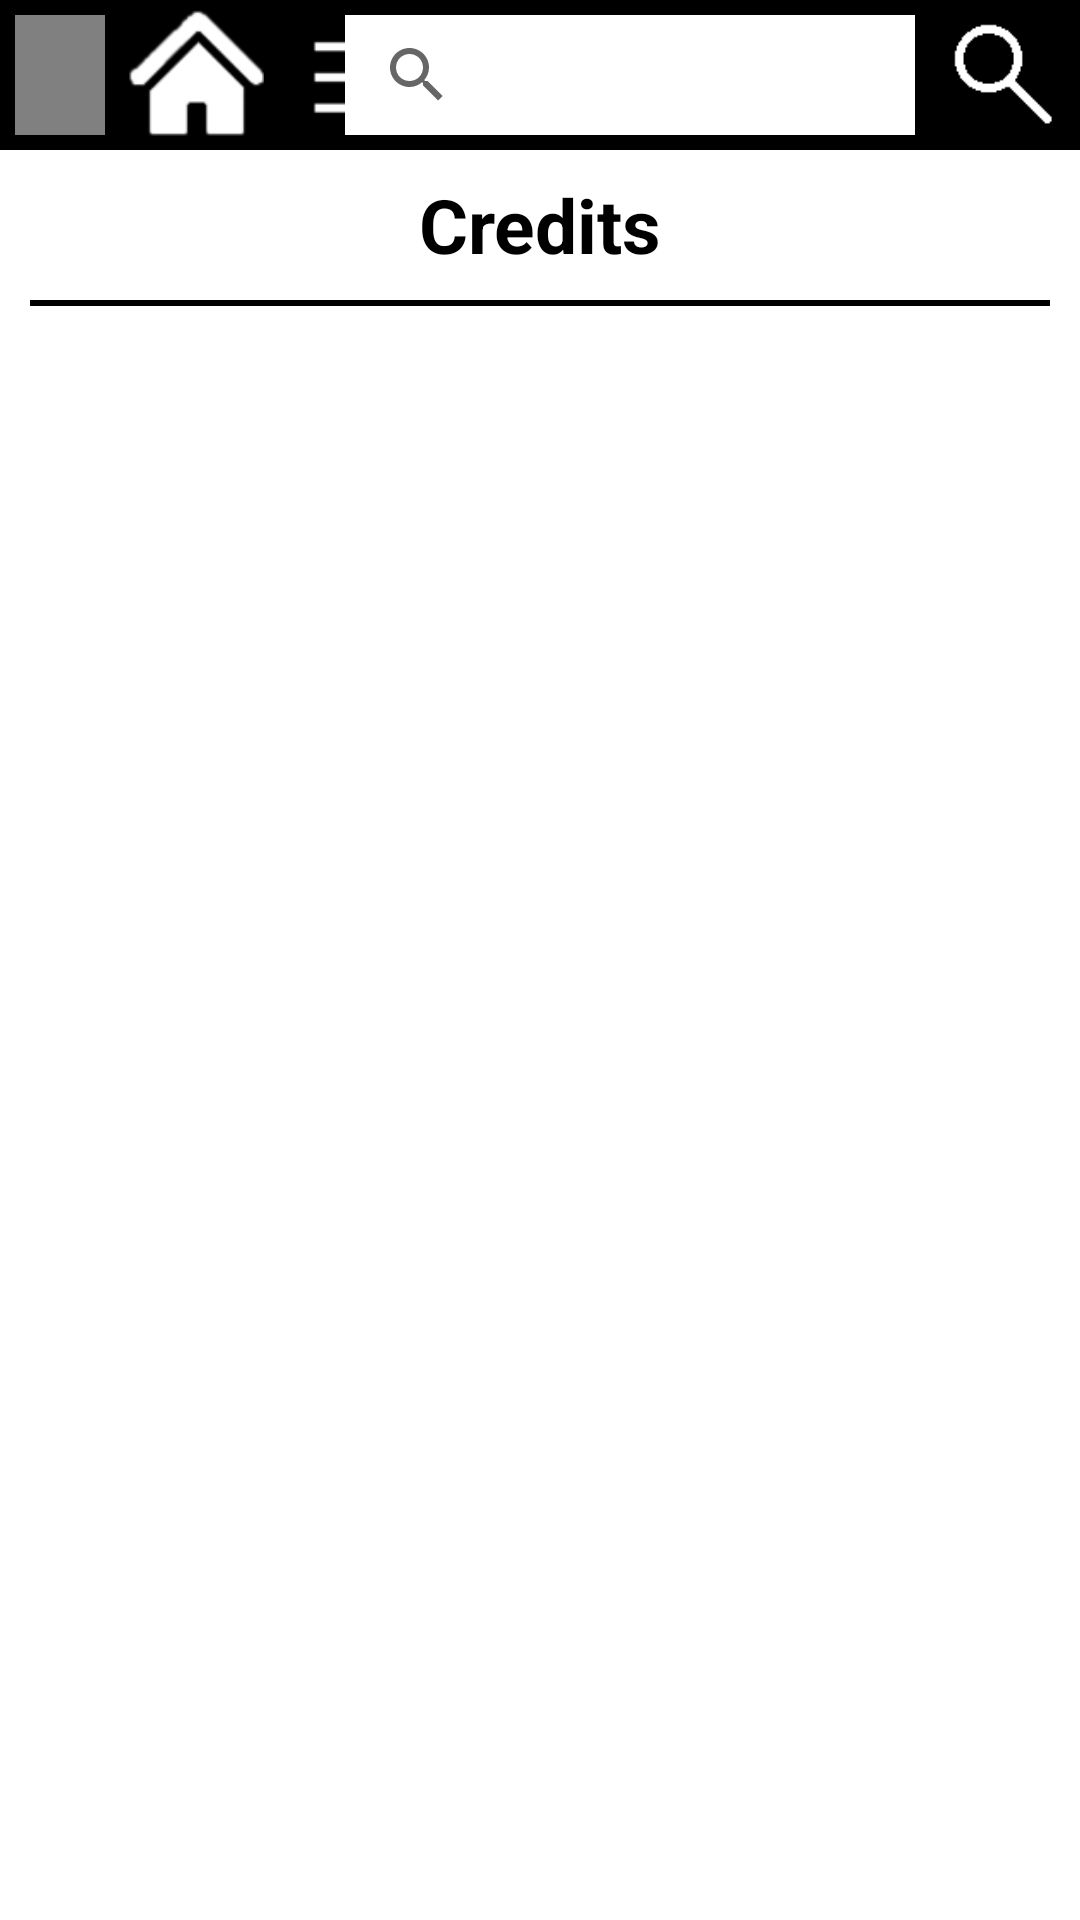

Icon bounding boxes for this 1080px×1920px phone screenshot, format Rect(x1, y1, x2, y2):
This button is used to open/close the search bar: Rect(954, 24, 1052, 124)
This button is used to return to the home screen of the app: Rect(129, 11, 264, 136)
